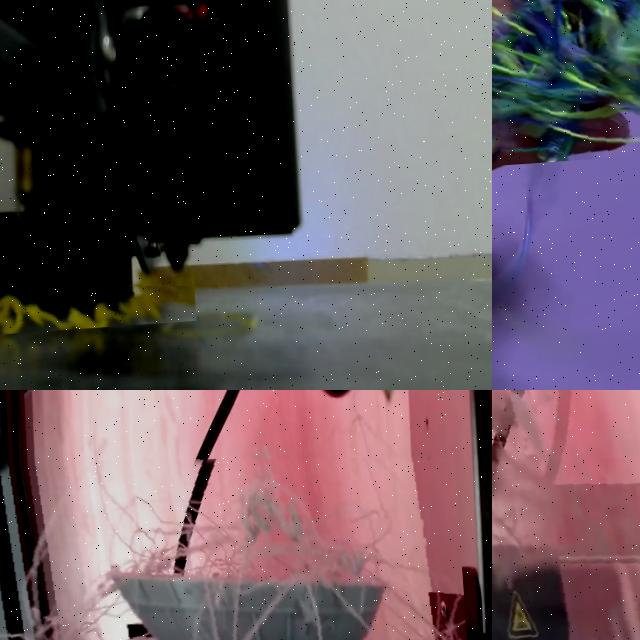spaghetti: (0, 425, 475, 640), (492, 390, 640, 640), (492, 0, 640, 171), (0, 282, 194, 334)
